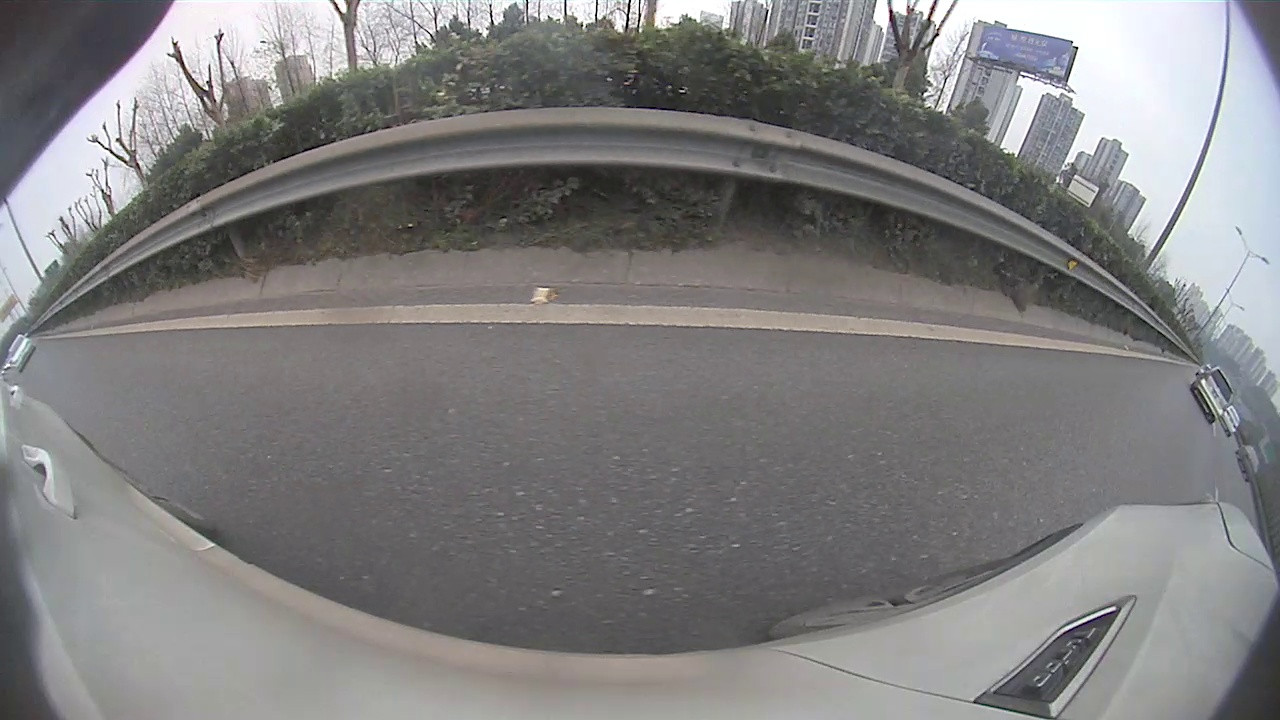car: (1192, 367, 1234, 424), (1235, 443, 1263, 483), (7, 336, 34, 370)
